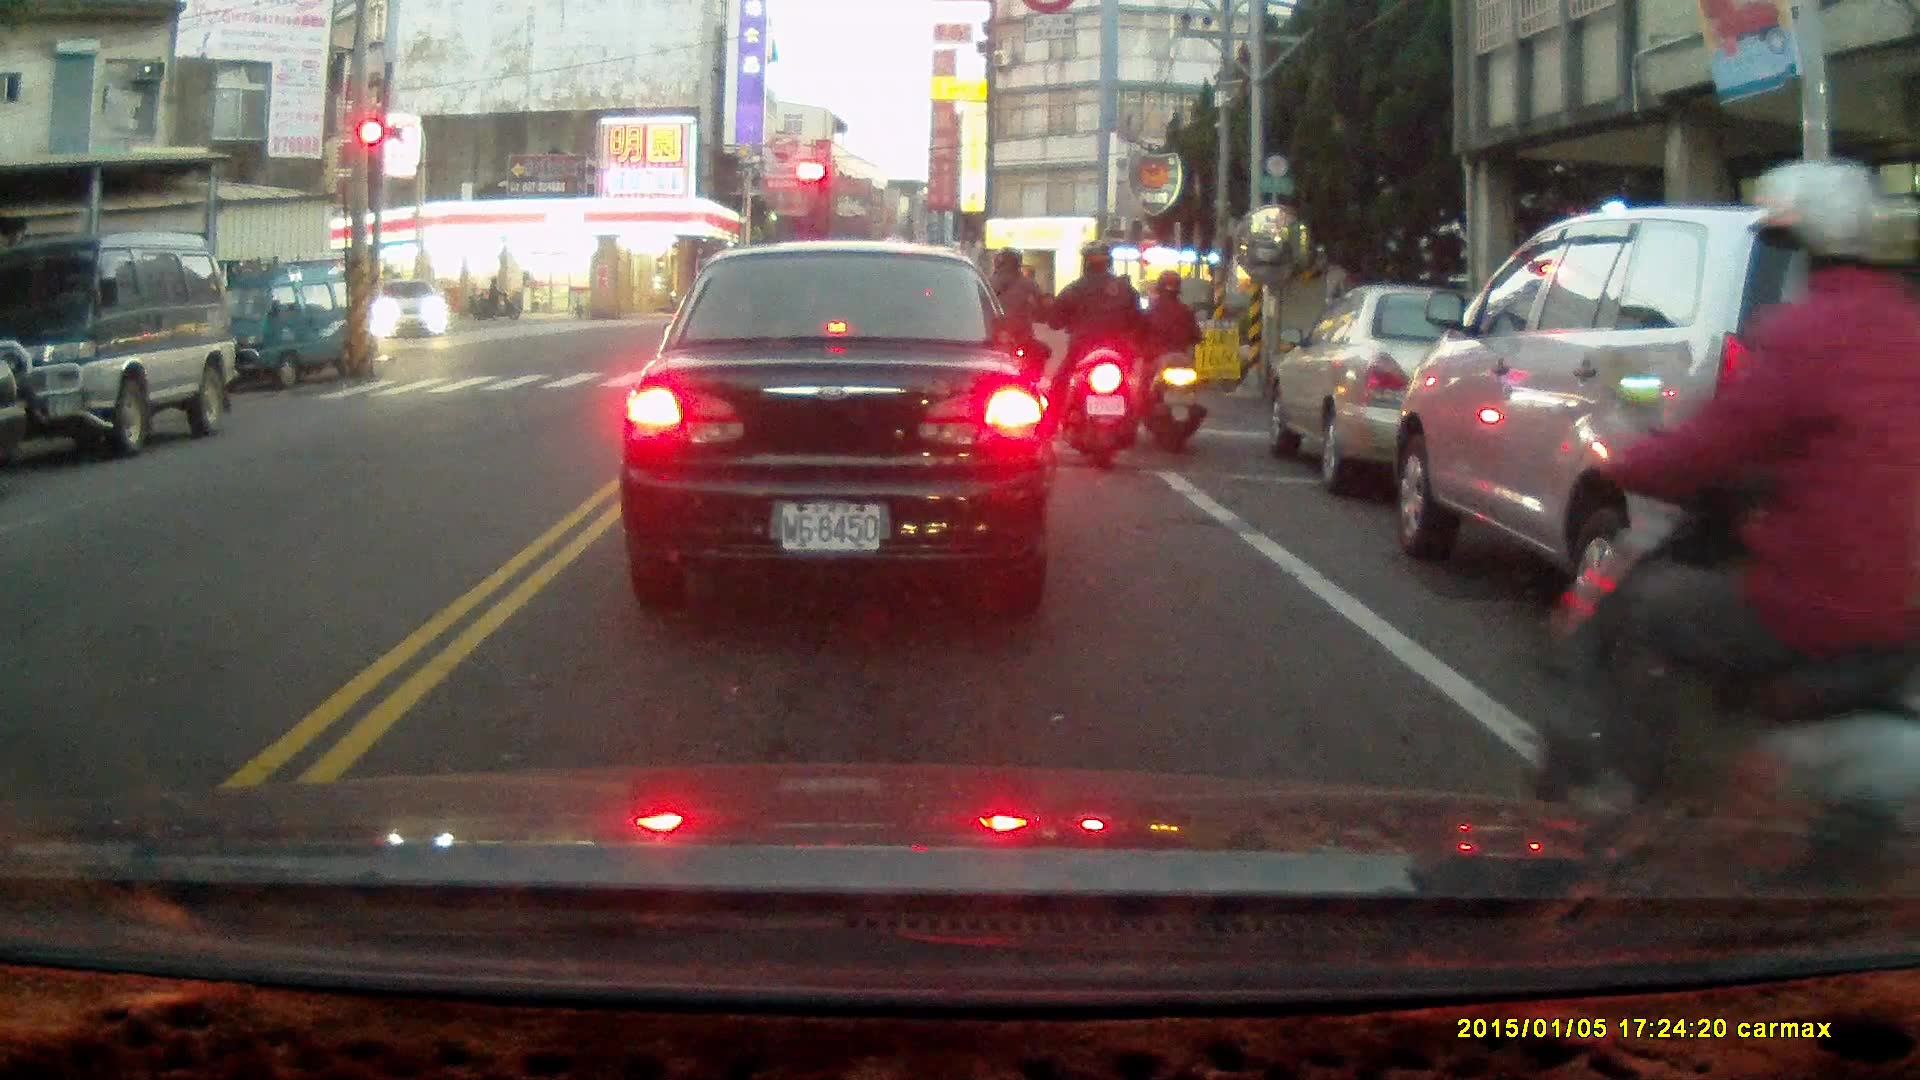rider: (1523, 155, 1920, 871), (1048, 242, 1141, 468), (960, 240, 1056, 430), (1135, 270, 1205, 451), (472, 278, 515, 318)
vehicle: (1389, 205, 1915, 700), (617, 243, 1061, 606), (1269, 285, 1583, 496), (1, 234, 239, 458), (192, 257, 378, 393), (372, 277, 451, 343)
